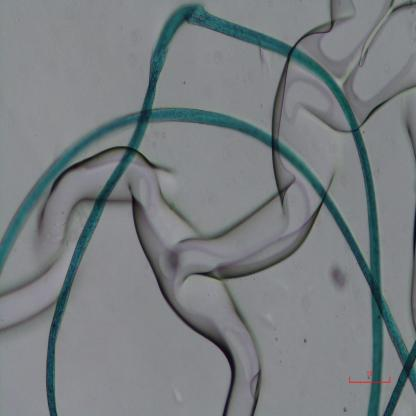Background material: (128, 157, 324, 415), (38, 138, 126, 253), (311, 2, 416, 81), (265, 63, 341, 161), (0, 276, 52, 332), (406, 207, 416, 330), (400, 102, 416, 160), (326, 260, 350, 292)
Microfibre: (44, 1, 382, 414), (0, 107, 416, 387), (383, 339, 416, 415)
